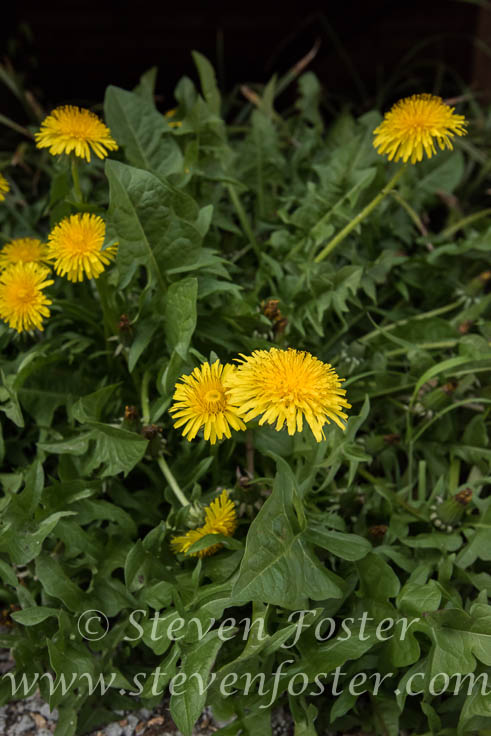dandelion: (240, 346, 363, 447), (367, 94, 472, 167), (34, 90, 124, 169), (168, 358, 249, 439), (45, 208, 125, 284), (172, 497, 245, 556), (4, 252, 47, 349)
